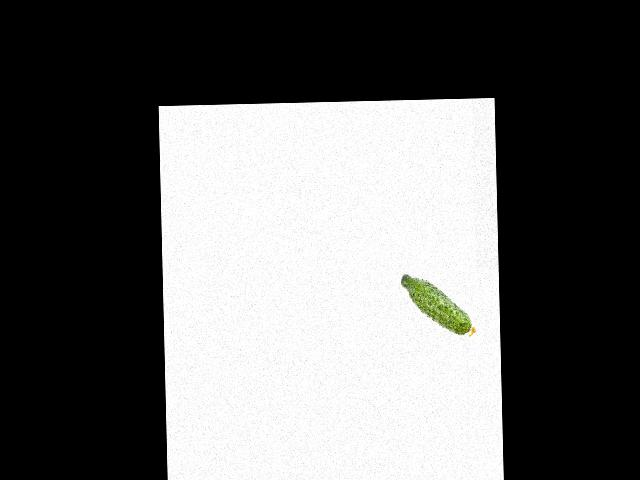cucumber: (401, 272, 476, 338)
